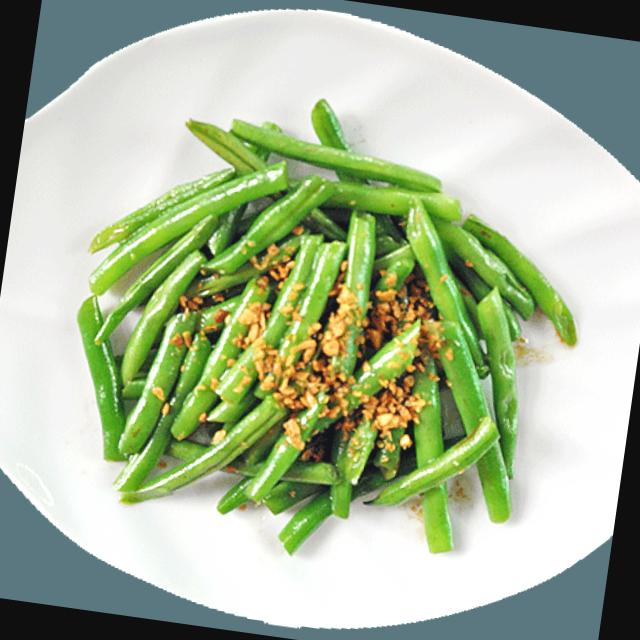dau que: (79, 102, 574, 554)
